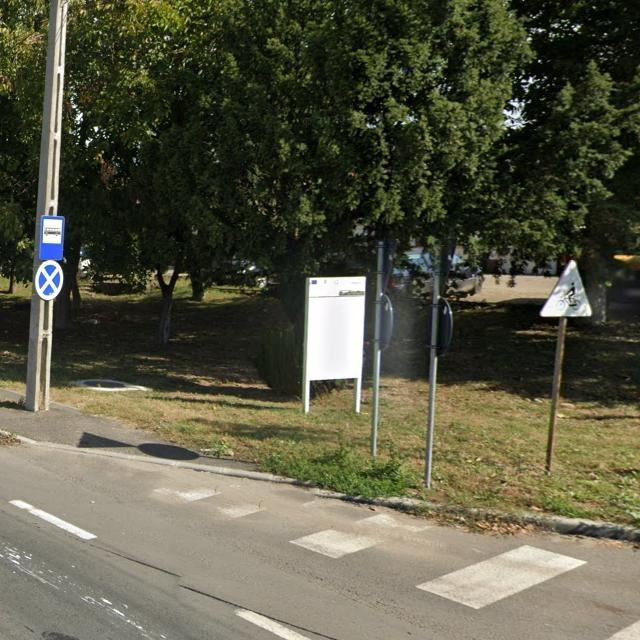forb_waiting: (35, 260, 63, 300)
